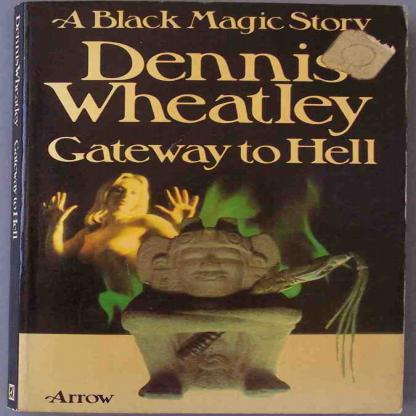book: (7, 0, 414, 414)
